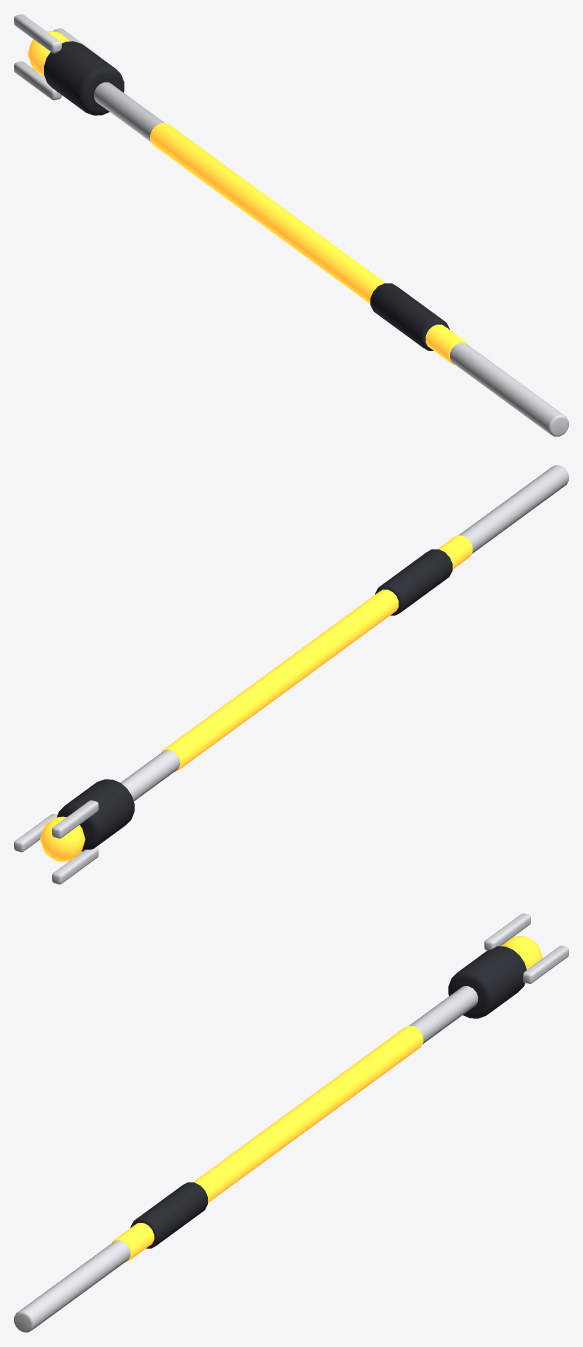
Rendered from staff.glb.
3 views of the same model, one above another, from view 1: azimuth 30°, elevation 25°; view 2: azimuth 150°, elevation 25°; view 3: azimuth 330°, elevation 25° (orthographic). The views are drawn at different scales.
Visible parts, largest first — view 1: RodGlow, Rod, Head, Grip, Prong1, Prong2, Core; view 2: RodGlow, Rod, Head, Grip, Core, Prong1, Prong2, Prong0; view 3: RodGlow, Rod, Head, Grip, Prong0, Prong1, Core.
Boxes of the visible parts, x1,y1,x2,y2 form: RodGlow: [150, 123, 468, 364]; Rod: [94, 82, 568, 436]; Head: [44, 41, 124, 115]; Grip: [370, 283, 449, 350]; Prong1: [14, 14, 61, 53]; Prong2: [14, 61, 61, 100]; Core: [27, 31, 69, 76]; RodGlow: [161, 535, 472, 771]; Rod: [120, 465, 568, 801]; Head: [57, 779, 134, 851]; Grip: [375, 549, 452, 615]; Core: [40, 816, 85, 861]; Prong1: [52, 800, 98, 838]; Prong2: [52, 847, 98, 884]; Prong0: [14, 814, 57, 852]; RodGlow: [111, 1026, 423, 1262]; Rod: [14, 986, 477, 1332]; Head: [448, 946, 526, 1018]; Grip: [130, 1182, 207, 1248]; Prong0: [523, 945, 568, 983]; Prong1: [484, 913, 530, 950]; Core: [502, 936, 542, 969].
Size of the model in its own units: 0.0934 by 0.0959 by 1.59.
